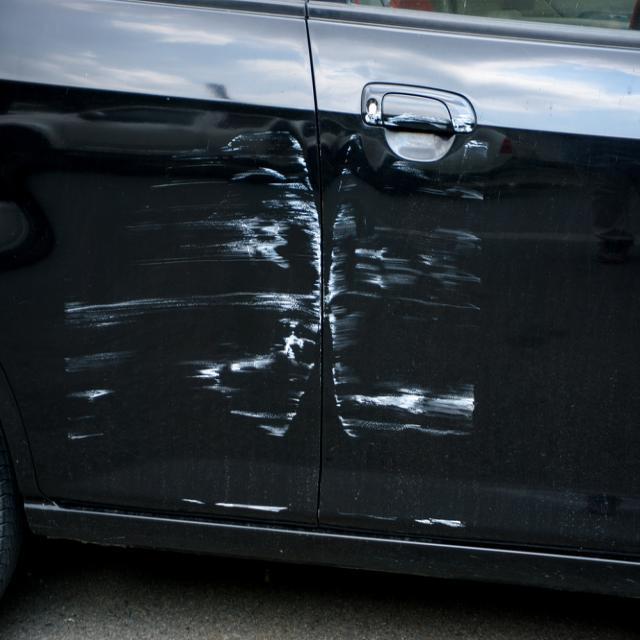scratch: (55, 126, 324, 456), (326, 132, 491, 446), (181, 496, 290, 512), (409, 516, 466, 530)
